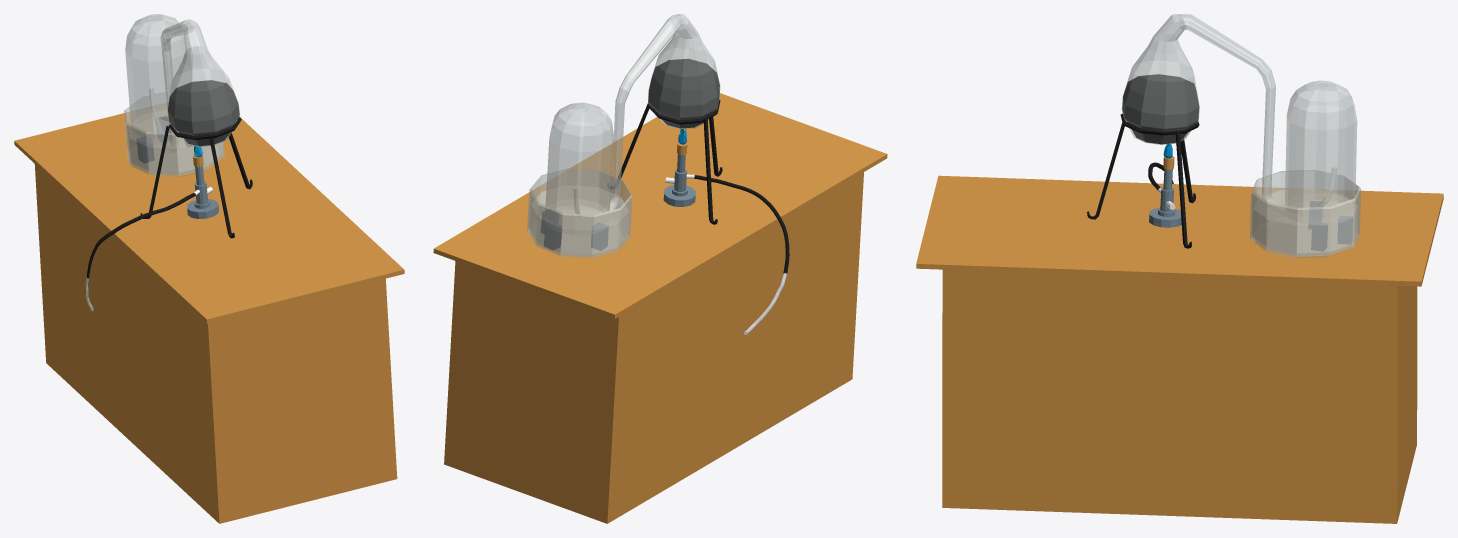
Rendered from Chemistry.glb.
The picture shows the model from 3 angles, left to right: view 1: azimuth 30°, elevation 25°; view 2: azimuth 150°, elevation 25°; view 3: azimuth 270°, elevation 25°; orthographic projection. The views are drawn at different scales.
Parts seen in each view (by area): view 1: group1412540574, group1321169551, group316721406, group496682563, group838760574, group183116916, group2068460844, group387404540; view 2: group1412540574, group1321169551, group316721406, group496682563, group838760574, group183116916, group2068460844, group16245820; view 3: group1412540574, group1321169551, group316721406, group496682563, group838760574, group183116916, group1830734769.
Boxes of the visible parts, box(x1,y1,x2,y2) form: group1412540574: box(14, 112, 404, 523); group1321169551: box(149, 19, 239, 146); group316721406: box(125, 14, 192, 132); group496682563: box(124, 92, 224, 176); group838760574: box(168, 80, 239, 145); group183116916: box(128, 109, 221, 174); group2068460844: box(85, 193, 195, 311); group387404540: box(209, 138, 234, 238); group1412540574: box(433, 93, 887, 523); group1321169551: box(573, 14, 720, 213); group316721406: box(545, 102, 613, 235); group496682563: box(527, 168, 632, 258); group838760574: box(648, 58, 719, 128); group183116916: box(530, 185, 628, 256); group2068460844: box(694, 175, 789, 334); group16245820: box(703, 118, 717, 224); group1412540574: box(916, 175, 1443, 523); group1321169551: box(1121, 14, 1337, 206); group316721406: box(1285, 80, 1357, 207); group496682563: box(1250, 170, 1360, 258); group838760574: box(1122, 74, 1199, 144); group183116916: box(1253, 189, 1357, 255); group1830734769: box(1175, 132, 1191, 248).
Bounding box in the file's own units: 1.12 × 1.87 × 1.97.
